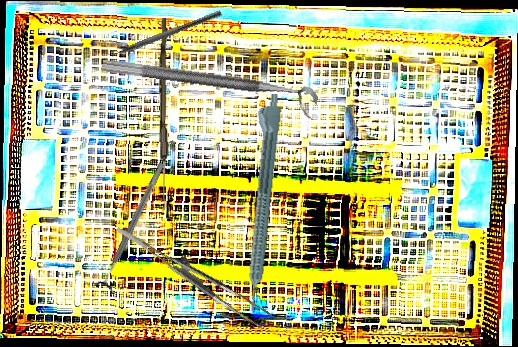Chopper: (98, 2, 223, 64)
Fixation Ring: (98, 57, 320, 121), (93, 159, 172, 295)
Handpiece: (234, 92, 284, 312)
Surgical Spoon: (157, 17, 170, 210)
Tissue Forceps: (115, 203, 274, 343)
